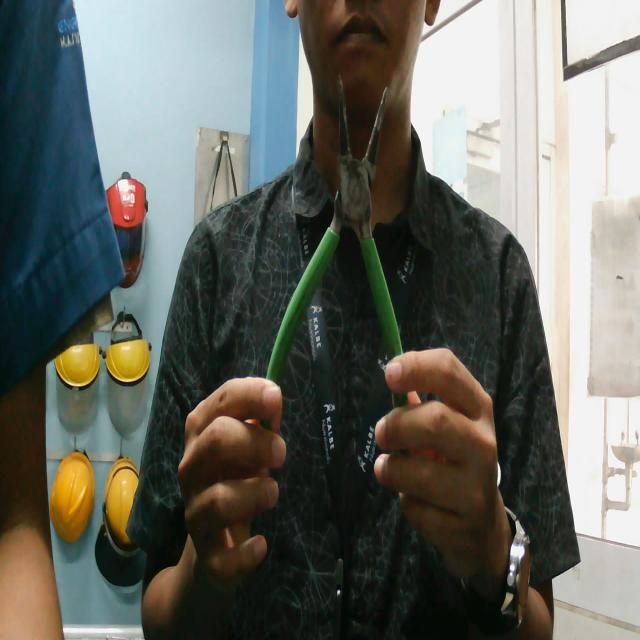tang_scun_hidrolik: (248, 62, 434, 459)
